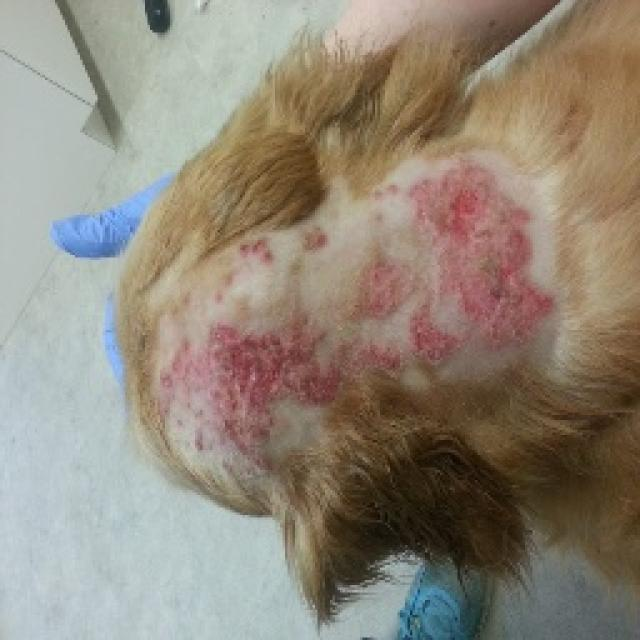hotspot: (421, 179, 545, 317), (168, 340, 327, 420), (362, 263, 402, 309), (413, 310, 442, 358), (361, 342, 400, 371)
